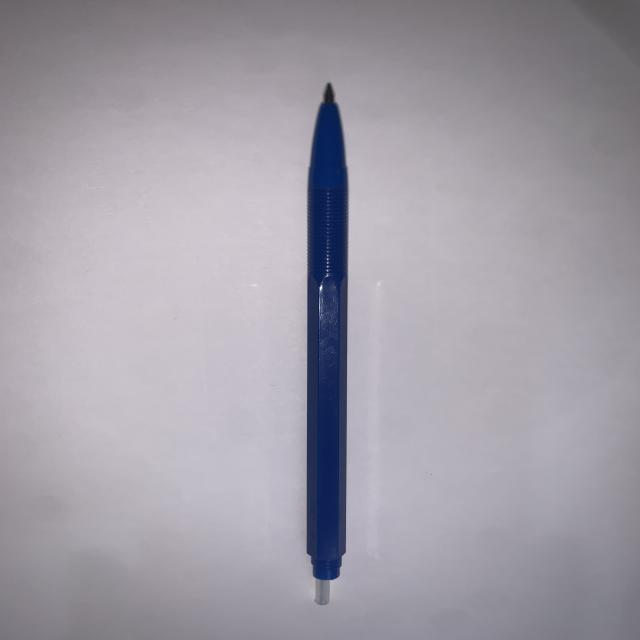Pulpen: (273, 80, 384, 617)
